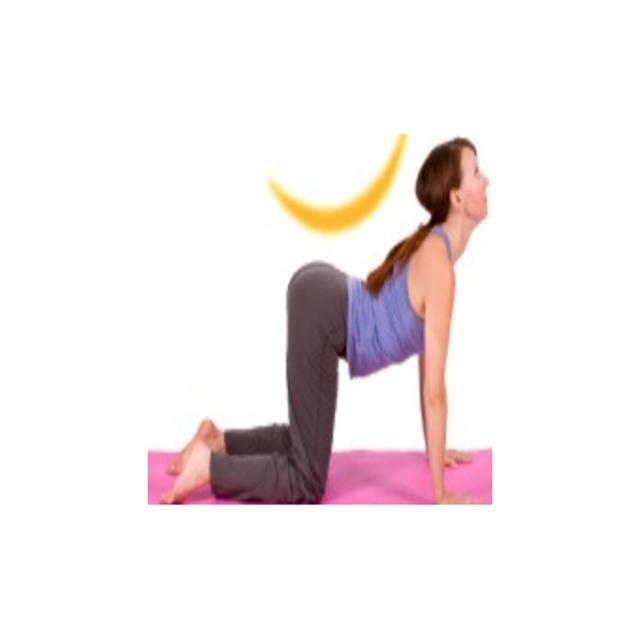Cow_Pose: (164, 137, 490, 503)
